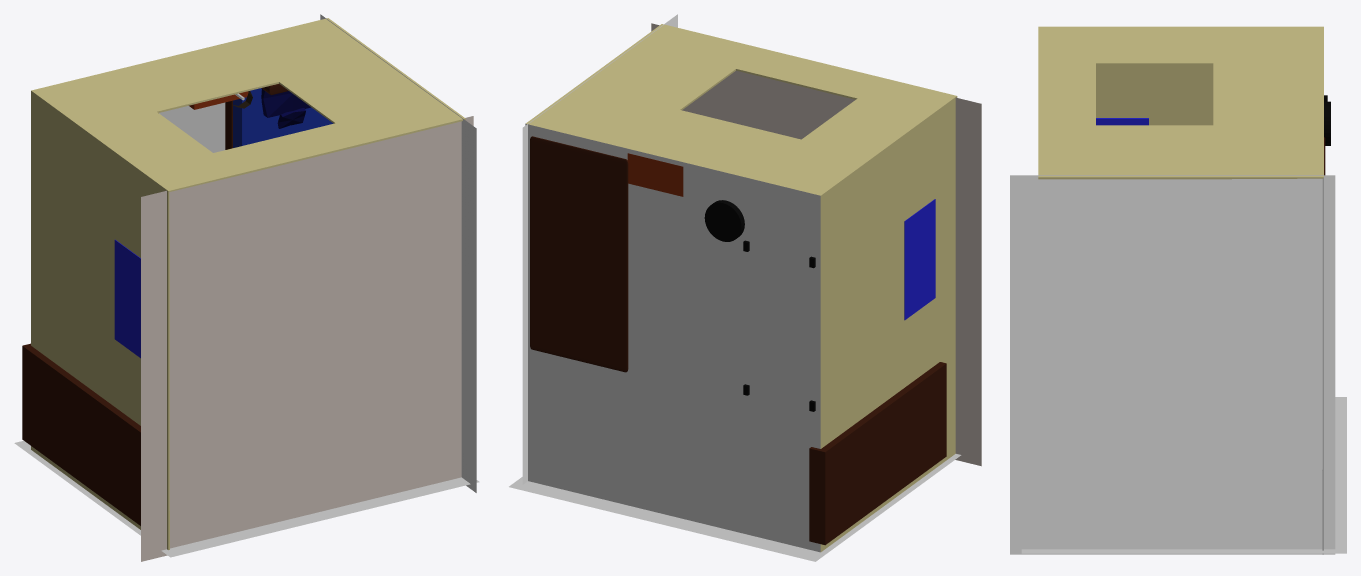
File: simple-room.obj
3 renders of one model, left to right at view 1: azimuth 30°, elevation 25°; view 2: azimuth 150°, elevation 25°; view 3: azimuth 270°, elevation 25°, orthographic. The views are drawn at different scales.
Visible parts, largest first — view 1: Plane.004, Cube.012_Cube.005, Cube.009_Cube.010, Plane.003, Plane.002, house, Cube.010_Cube.011, Cube.005_Cube.006, Cube.004; view 2: Cube.012_Cube.005, Cube.004, Plane.004, Cube.009_Cube.010, Plane.002, house, Plane.003, Cube.008_Cube.009, Cylinder; view 3: Plane.003, Cube.012_Cube.005, Plane.002, house.
Boxes of the visible parts, x1,y1,x2,y2 form: Plane.004: [141, 116, 473, 561]; Cube.012_Cube.005: [31, 18, 465, 550]; Cube.009_Cube.010: [22, 343, 140, 525]; Plane.003: [320, 14, 476, 492]; Plane.002: [14, 440, 479, 557]; house: [114, 239, 140, 358]; Cube.010_Cube.011: [233, 88, 333, 147]; Cube.005_Cube.006: [261, 89, 310, 117]; Cube.004: [225, 84, 288, 149]; Cube.012_Cube.005: [525, 24, 957, 552]; Cube.004: [530, 136, 628, 372]; Plane.004: [651, 23, 981, 466]; Cube.009_Cube.010: [809, 362, 946, 545]; Plane.002: [509, 454, 961, 561]; house: [904, 199, 935, 320]; Plane.003: [522, 14, 677, 484]; Cube.008_Cube.009: [627, 153, 683, 196]; Cylinder: [704, 200, 744, 241]; Plane.003: [1010, 175, 1335, 554]; Cube.012_Cube.005: [1038, 26, 1323, 554]; Plane.002: [1021, 397, 1346, 553]; house: [1096, 118, 1148, 125].
Bounding box in the file's own units: 3.36 × 3.53 × 2.83.
